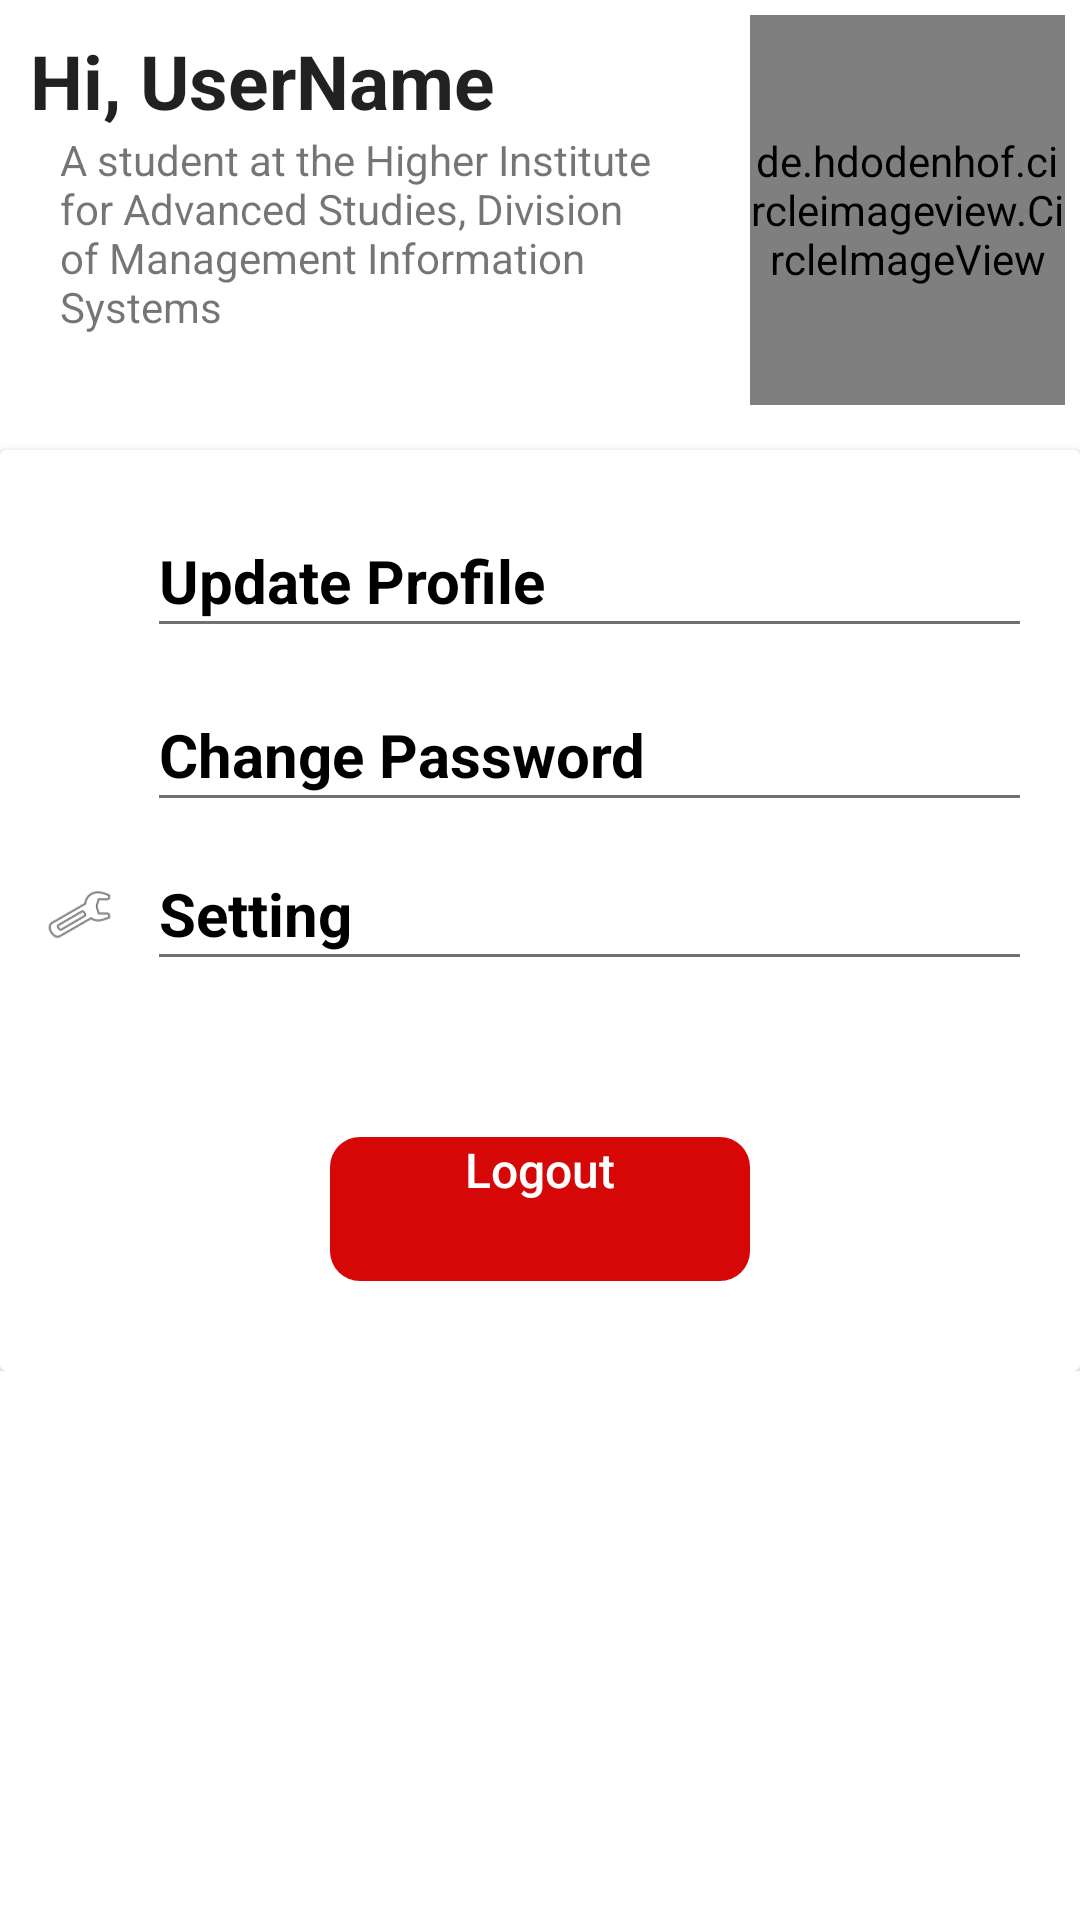

Icon bounding boxes for this 1080px x 1920px phone screenshot, format (x1, y1, x2, y2):
manage: (48, 891, 111, 938)
